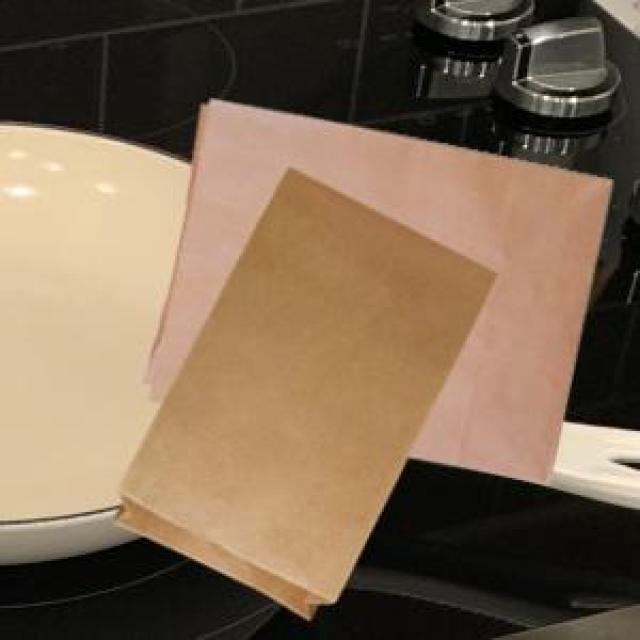paper: (141, 96, 608, 480), (109, 164, 493, 614)
